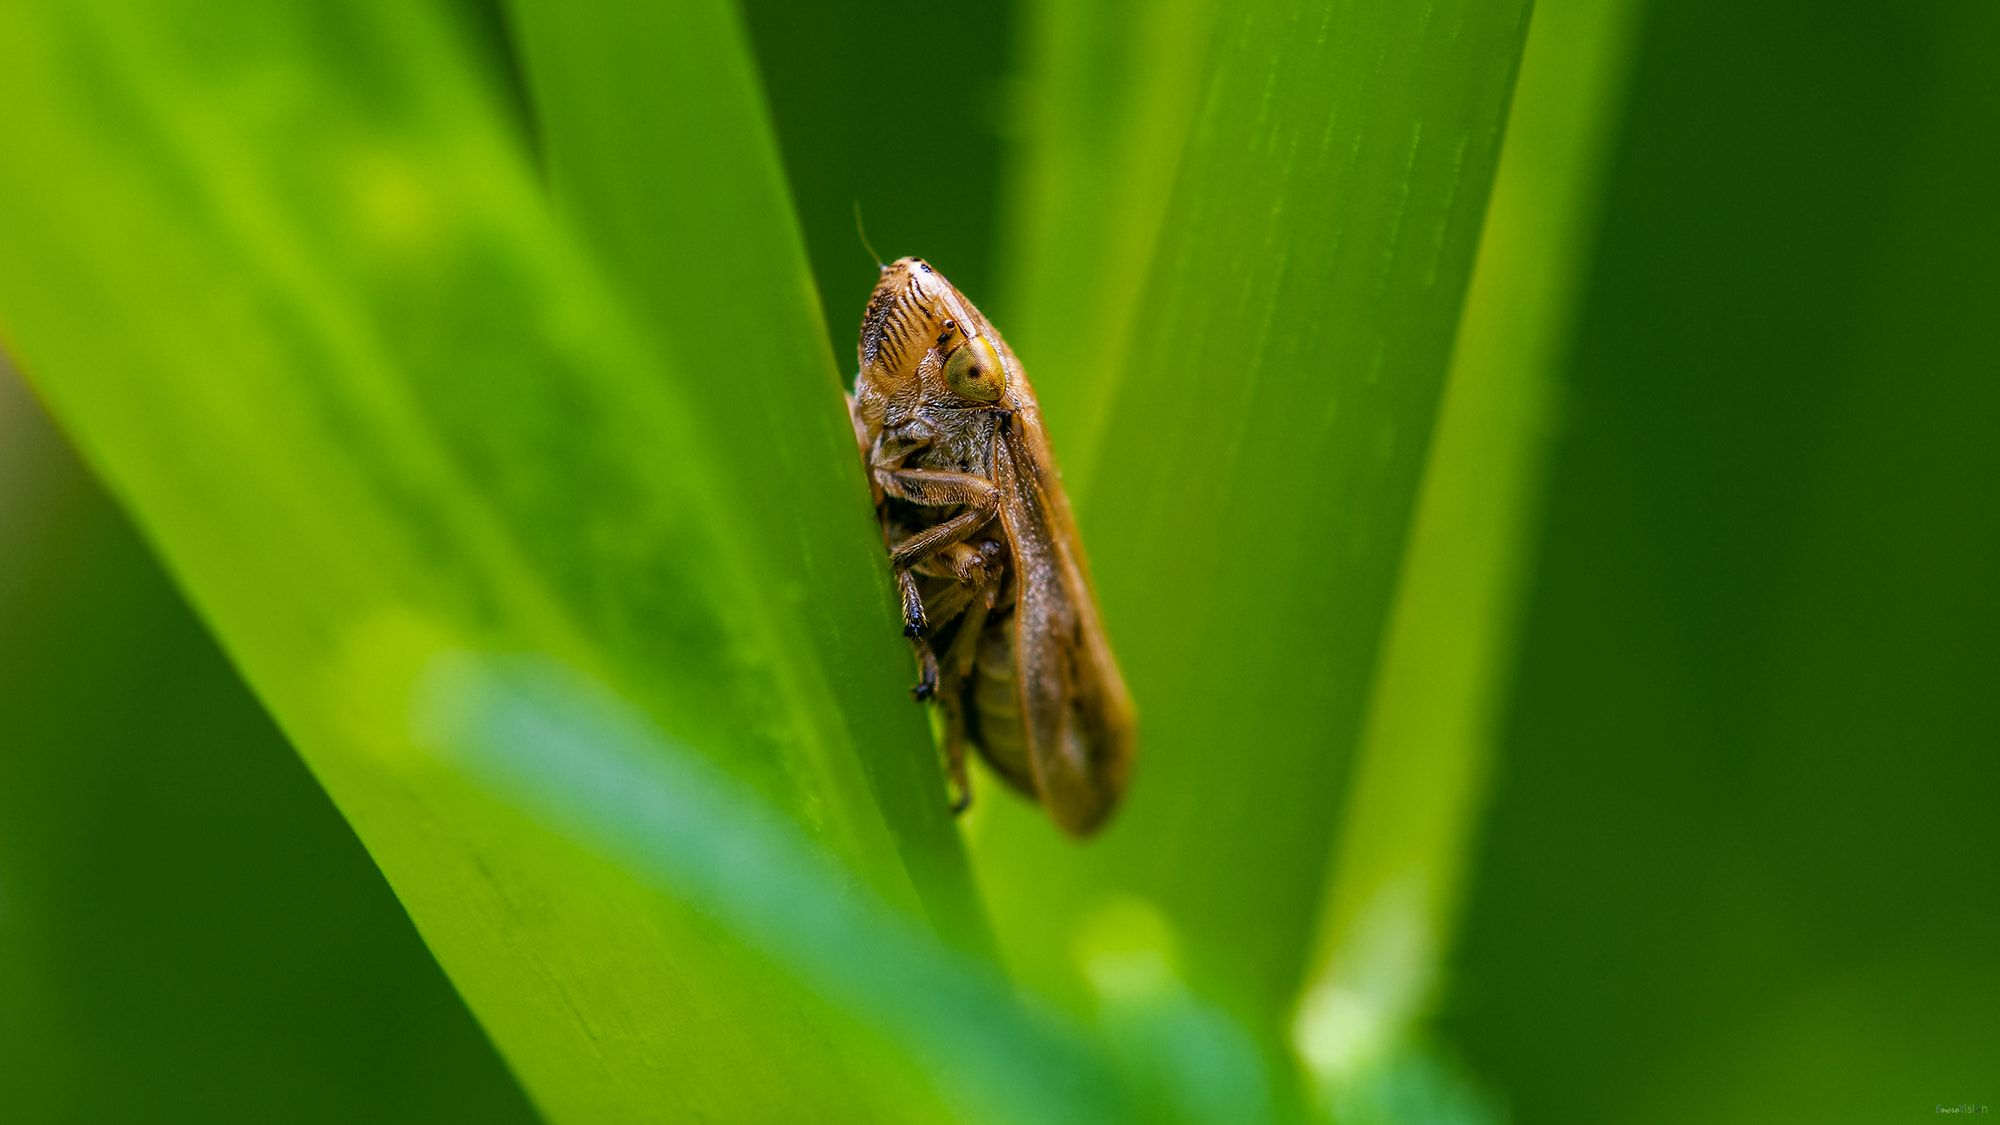Brown_hopper: (806, 205, 1143, 864)
